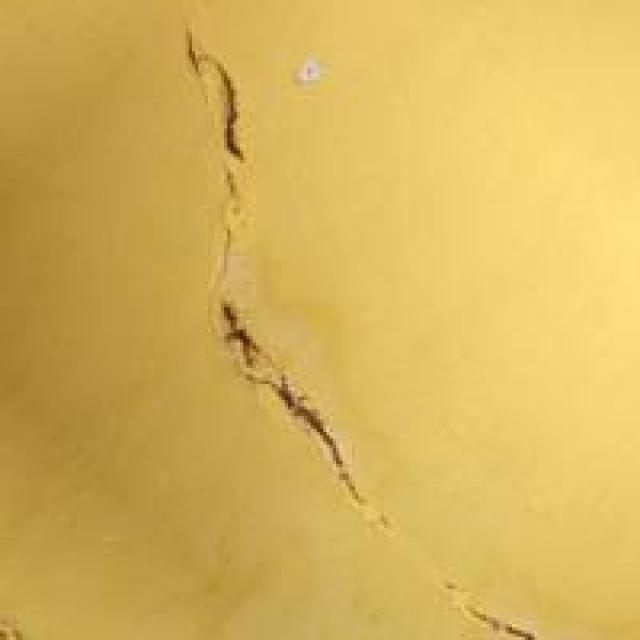Crack: (128, 19, 426, 550)
